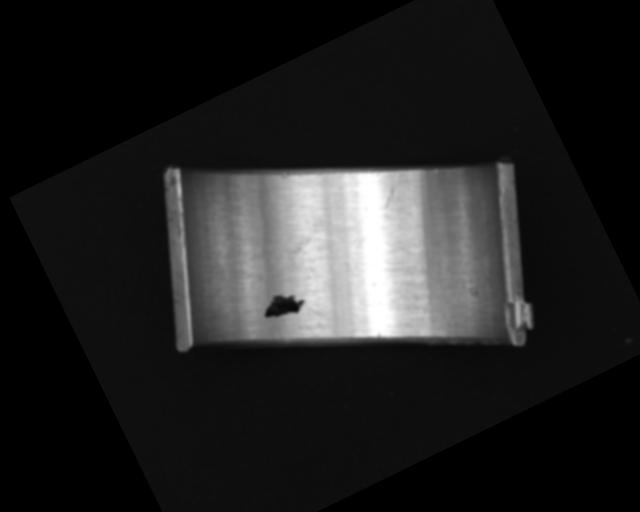blot: (260, 233, 324, 286), (257, 283, 310, 328)
bruise: (278, 170, 288, 181), (374, 330, 384, 339)
nick: (370, 168, 410, 210)
